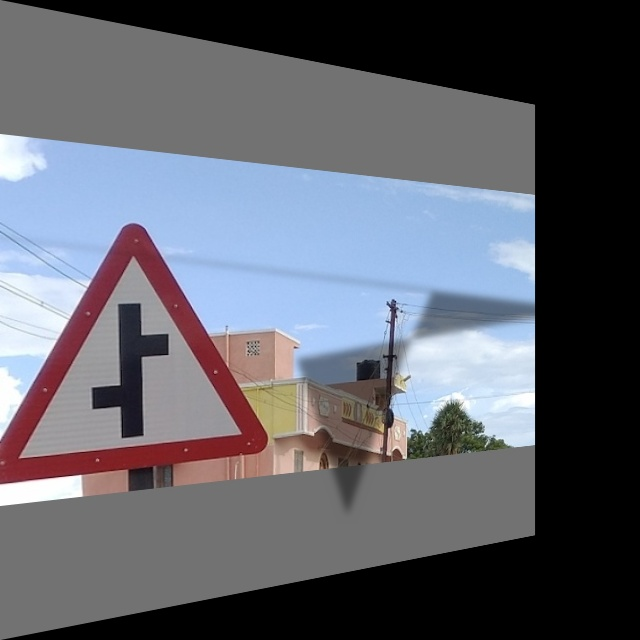Staggered_Intersection: (14, 219, 254, 479)
